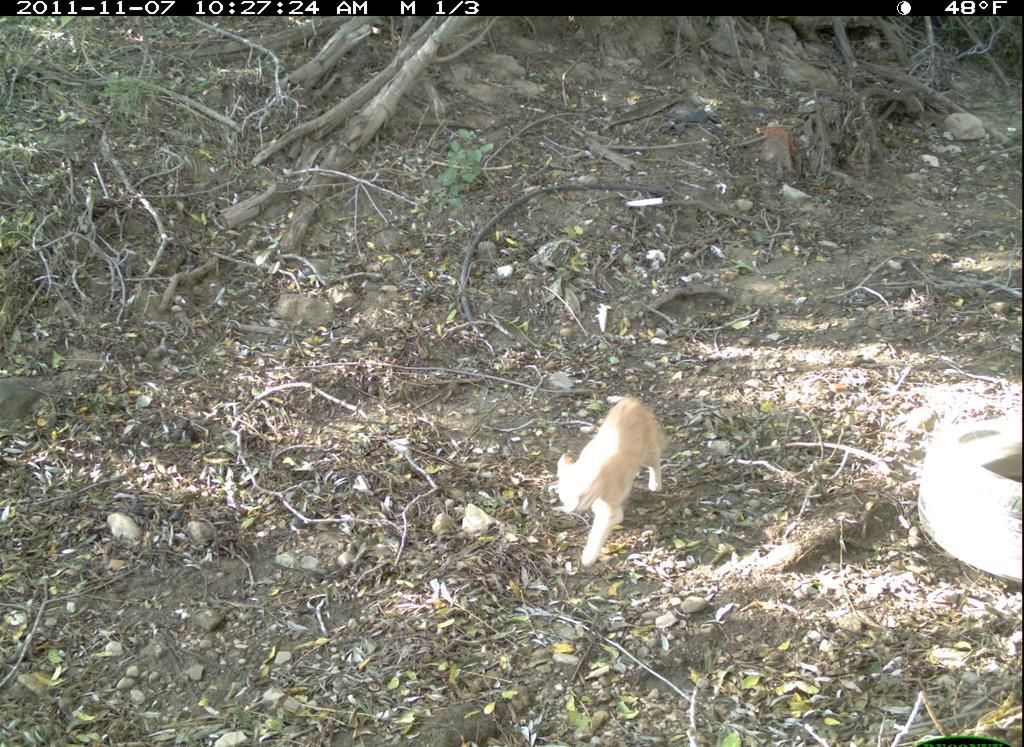cat: (546, 385, 673, 579)
